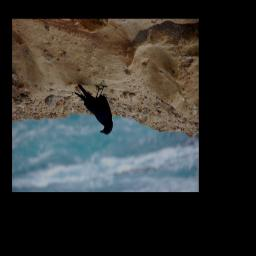Crow: (74, 82, 113, 137)
